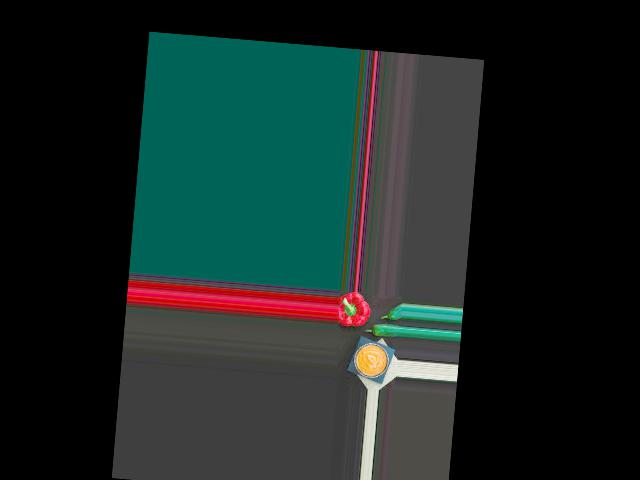bell_pepper: (337, 292, 370, 328)
